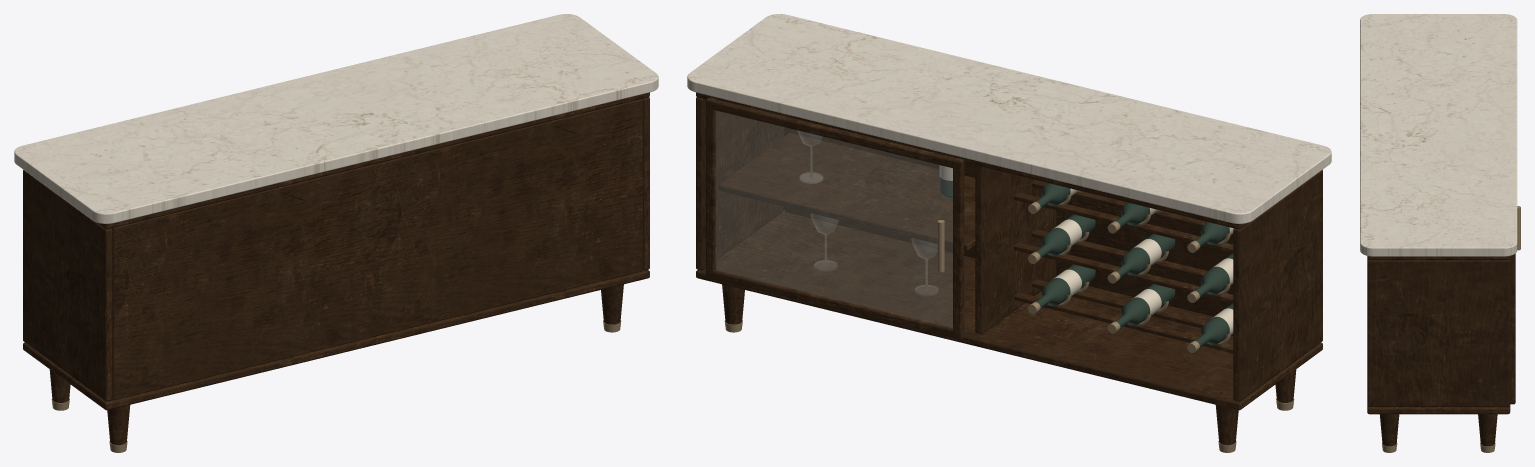
File: storage2-wine-credenza.glb
3 renders of one model, left to right at view 1: azimuth 30°, elevation 25°; view 2: azimuth 150°, elevation 25°; view 3: azimuth 270°, elevation 25°, orthographic. The views are drawn at different scales.
Parts seen in each view (by area): view 1: walnut_surfaces, stone_surfaces; view 2: walnut_surfaces, stone_surfaces, glass_surfaces, bottle_surfaces, bronze_surfaces, paper_surfaces; view 3: stone_surfaces, walnut_surfaces, bronze_surfaces.
Boxes of the visible parts, x1,y1,x2,y2 form: walnut_surfaces: [23, 92, 649, 445]; stone_surfaces: [14, 14, 658, 223]; walnut_surfaces: [696, 92, 1322, 445]; stone_surfaces: [687, 14, 1331, 223]; glass_surfaces: [716, 111, 952, 327]; bottle_surfaces: [939, 177, 1233, 348]; bronze_surfaces: [724, 190, 1294, 452]; paper_surfaces: [939, 165, 1233, 334]; stone_surfaces: [1360, 14, 1517, 256]; walnut_surfaces: [1367, 253, 1515, 446]; bronze_surfaces: [1382, 206, 1520, 452].
Bounding box in the file's own units: 1.86 × 0.803 × 0.5401.
6 materials, 2 textured.
